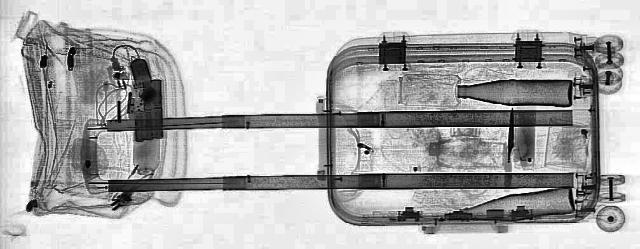Knife: (505, 107, 515, 161)
